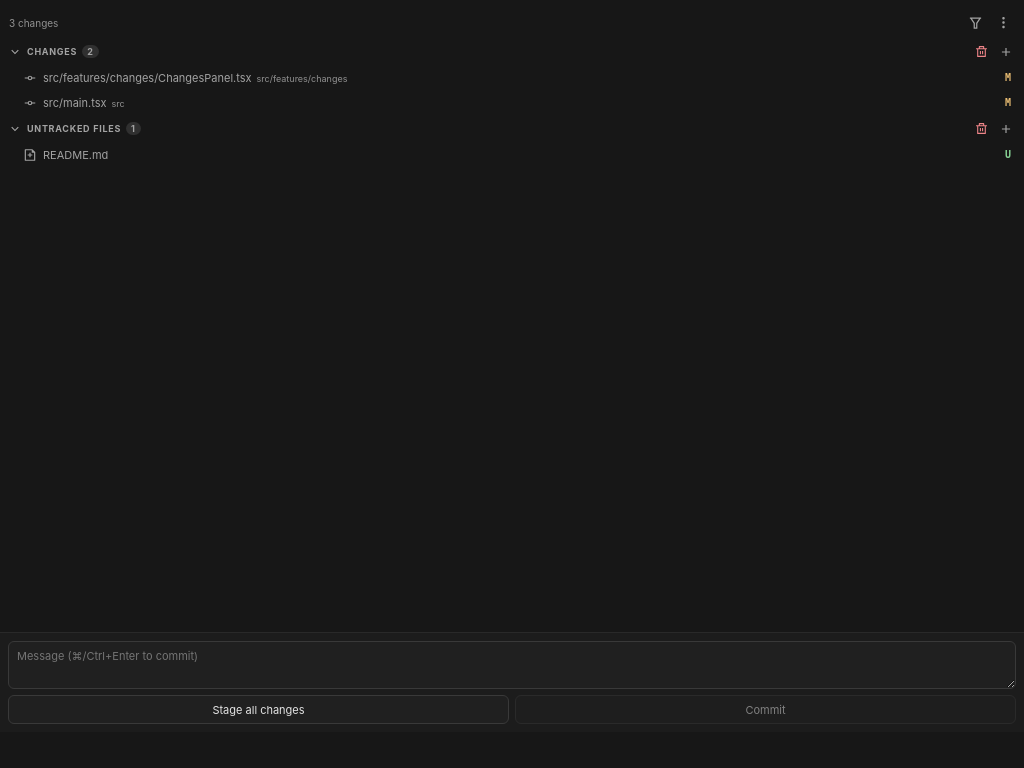
it: ChangesPanel view modes › shows grouped paths as an expanded, collapsible tree
Click the button named "View options": x=1003, y=22 [991,10,1015,34]
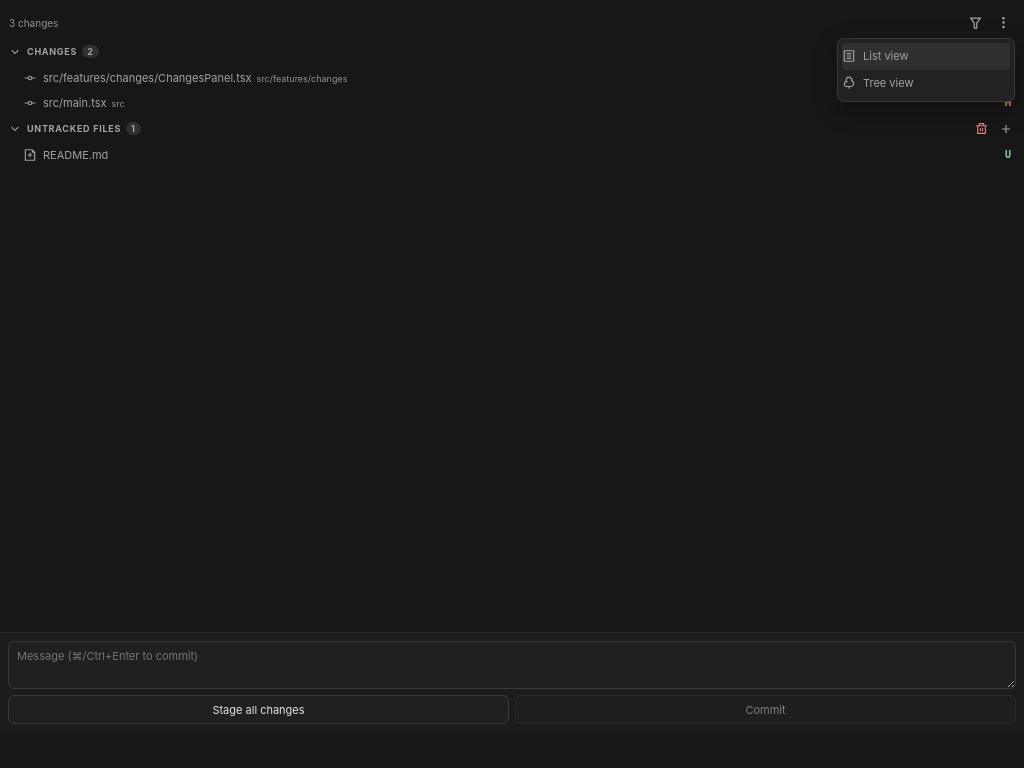
Click the menu item "Tree view": x=926, y=83 [842,70,1010,96]
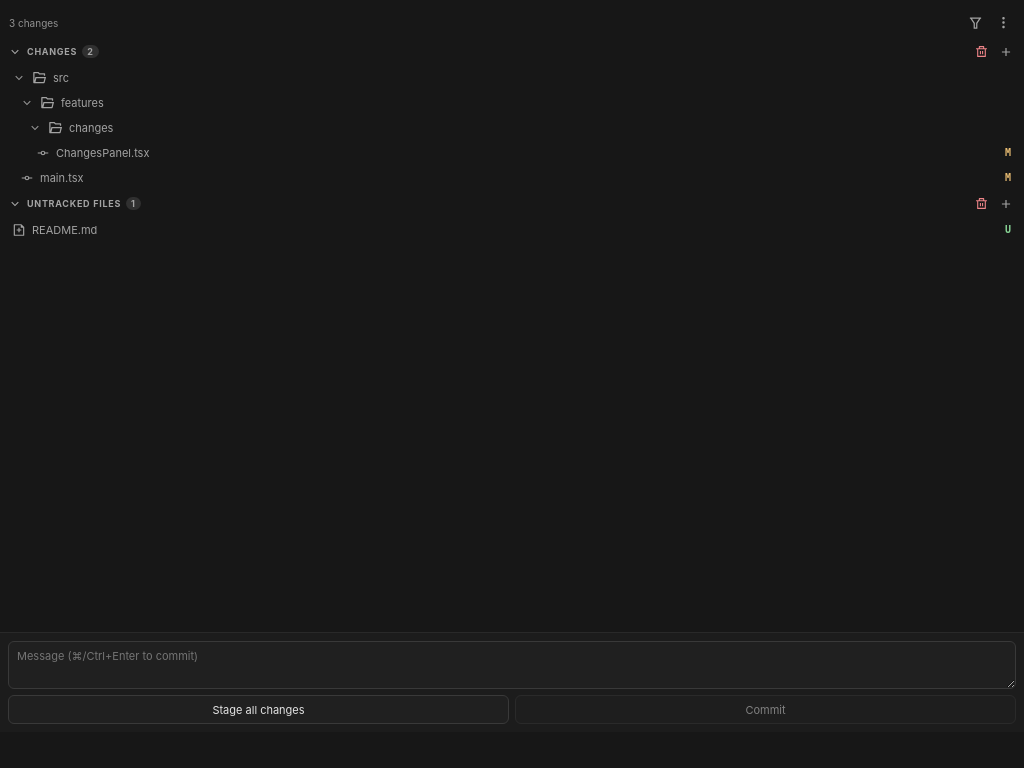
Check: the list item "features" is shown, box [20,95,104,110]
Check: the list item "ChangesPanel.tsx M" is shown, box [36,146,1011,160]
Check: the list item "main.tsx M" is shown, box [20,170,1011,184]
Click the list item "src": x=41, y=78 [12,70,69,85]
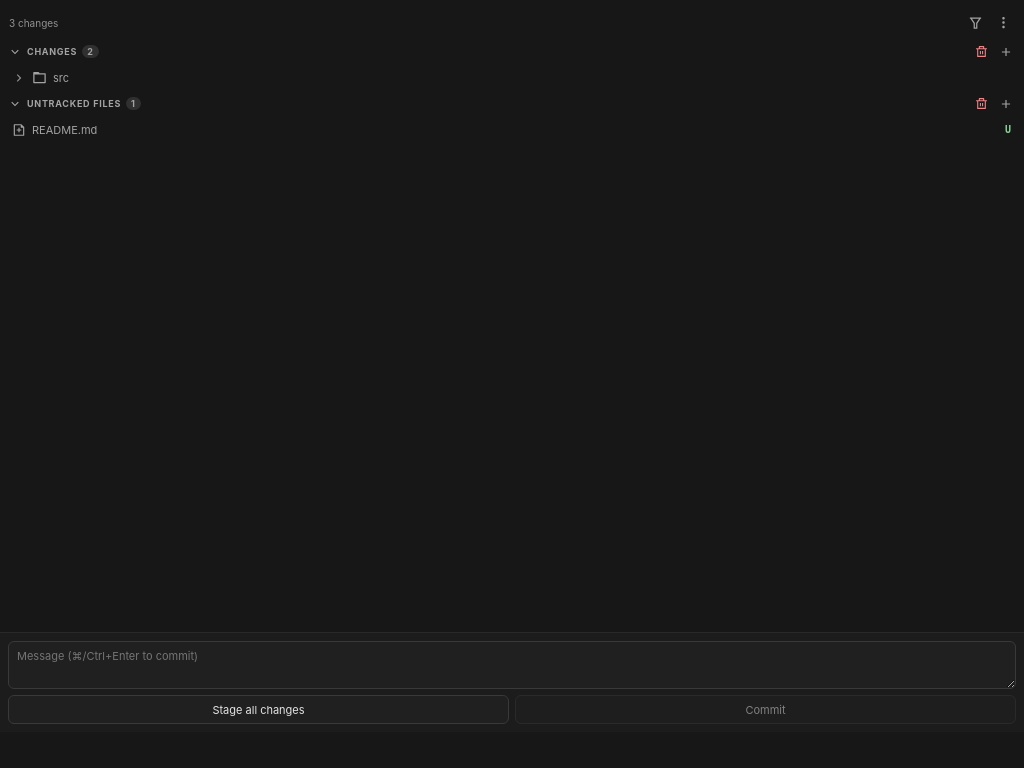
Check: the list item "README.md U" is shown, box [12,122,1011,136]
Check: the text "features" is gone
Check: the list item "main.tsx M" is gone
